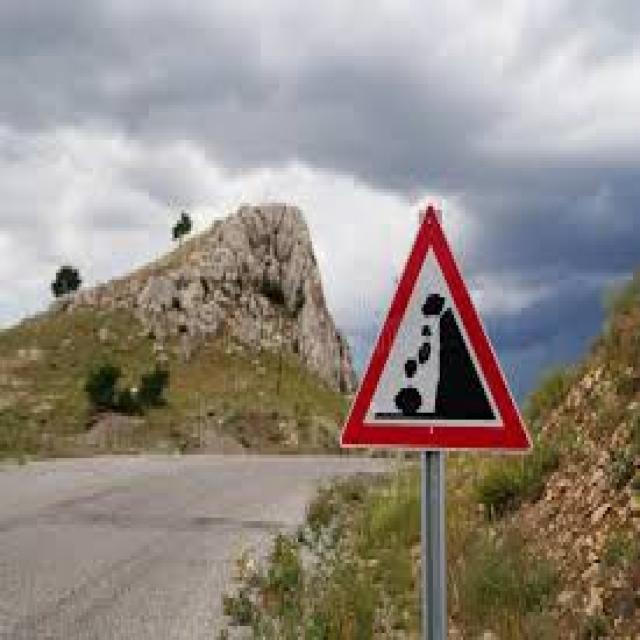falling rocks: (338, 202, 538, 464)
